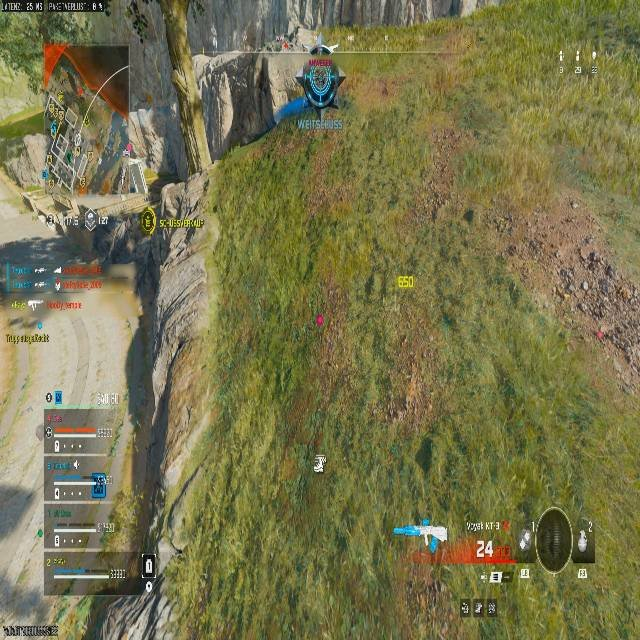head: (308, 44, 328, 62)
player: (295, 45, 345, 110)
